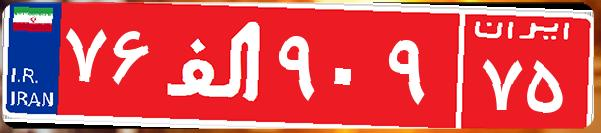0: (330, 28, 385, 110)
5: (525, 38, 570, 115)
6: (110, 28, 158, 105)
7: (57, 26, 110, 107), (475, 38, 525, 113)
9: (385, 28, 445, 110), (273, 28, 330, 110)
الف: (158, 15, 273, 115)
